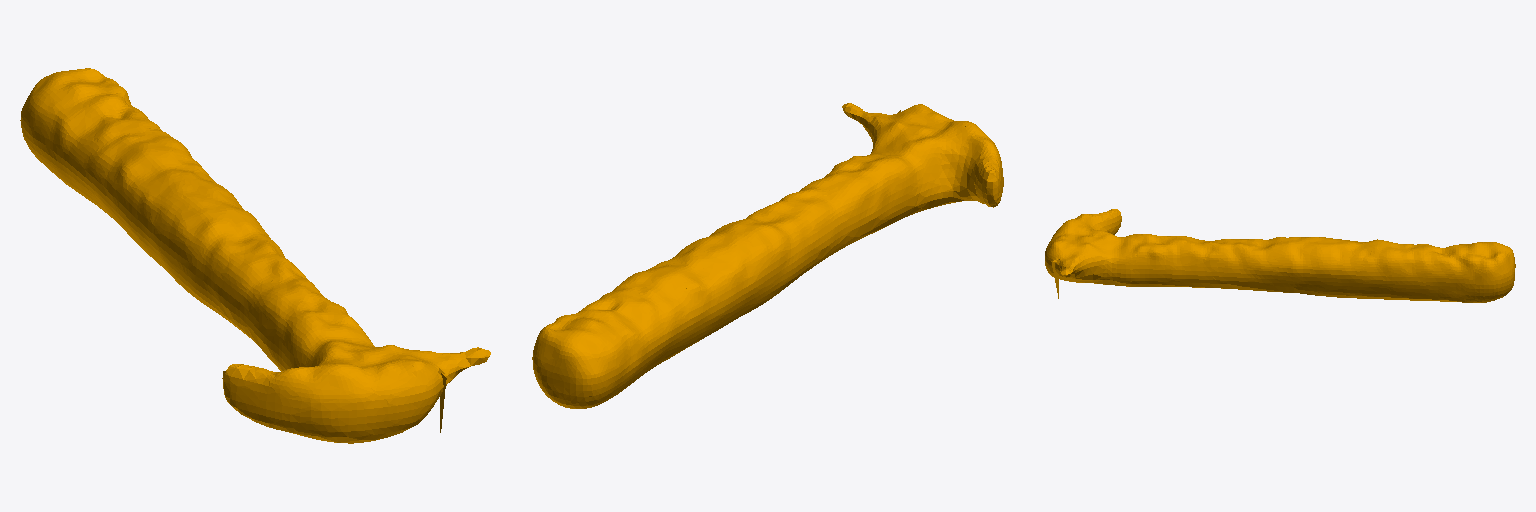
URDF robot description (048_hammer):
<?xml version="1.0"?>
<robot name="048_hammer">
  <link name="base_link">
    <inertial>
      <origin xyz="0.013420 -0.004151 0.012835" rpy="0 0 0" />
      <mass value="0.398863" />
      <inertia ixx="0.00395333" ixy="-0.00042546" ixz="-0.00000107"
               iyy="0.00014377" iyz="-0.00000401" izz="0.00402494" />
    </inertial>
    <visual>
      <geometry><mesh filename="048_hammer.stl" scale="1.0 1.0 1.0" /></geometry>
    </visual>
    <collision>
      <geometry><mesh filename="048_hammer_col.obj" scale="1.0 1.0 1.0" /></geometry>
    </collision>
    <contact>
      <lateral_friction value="1.0"/>
    </contact>
  </link>
</robot>

--- Facts derived from the render (not from the file) ---
Views: 3 orthographic renders of the robot side by side, from view 1: azimuth 30°, elevation 25°; view 2: azimuth 150°, elevation 25°; view 3: azimuth 270°, elevation 25°.
Robot: 048_hammer — 1 links, 0 joints (none); root link base_link; default pose: all joints at 0.
Visible links, largest first — view 1: base_link; view 2: base_link; view 3: base_link.
Link boxes in pixels (x1,y1,x2,y2): base_link: [20, 68, 490, 443]; base_link: [532, 103, 1003, 408]; base_link: [1045, 209, 1515, 302].
Bounding box of the posed robot: 0.1064 × 0.3326 × 0.0447 m (x, y, z).
Meshes: 1 distinct files referenced, 1 mesh visuals loaded (1 binary STL).
